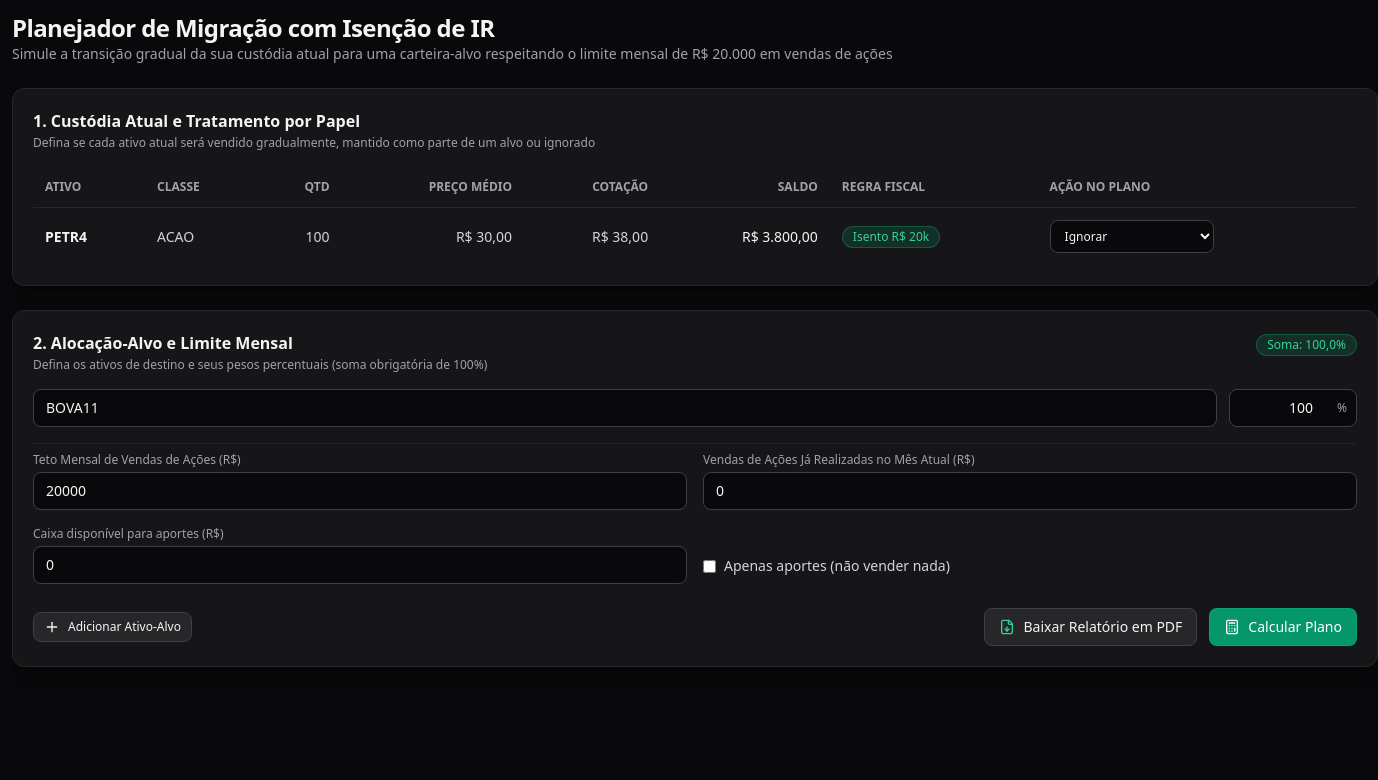
Test: Avisos do plano e plano desatualizado › mudar as entradas depois de calcular remove o plano exibido
Click the button "Calcular Plano".
click(1283, 627)  # box [1209,608,1357,646]
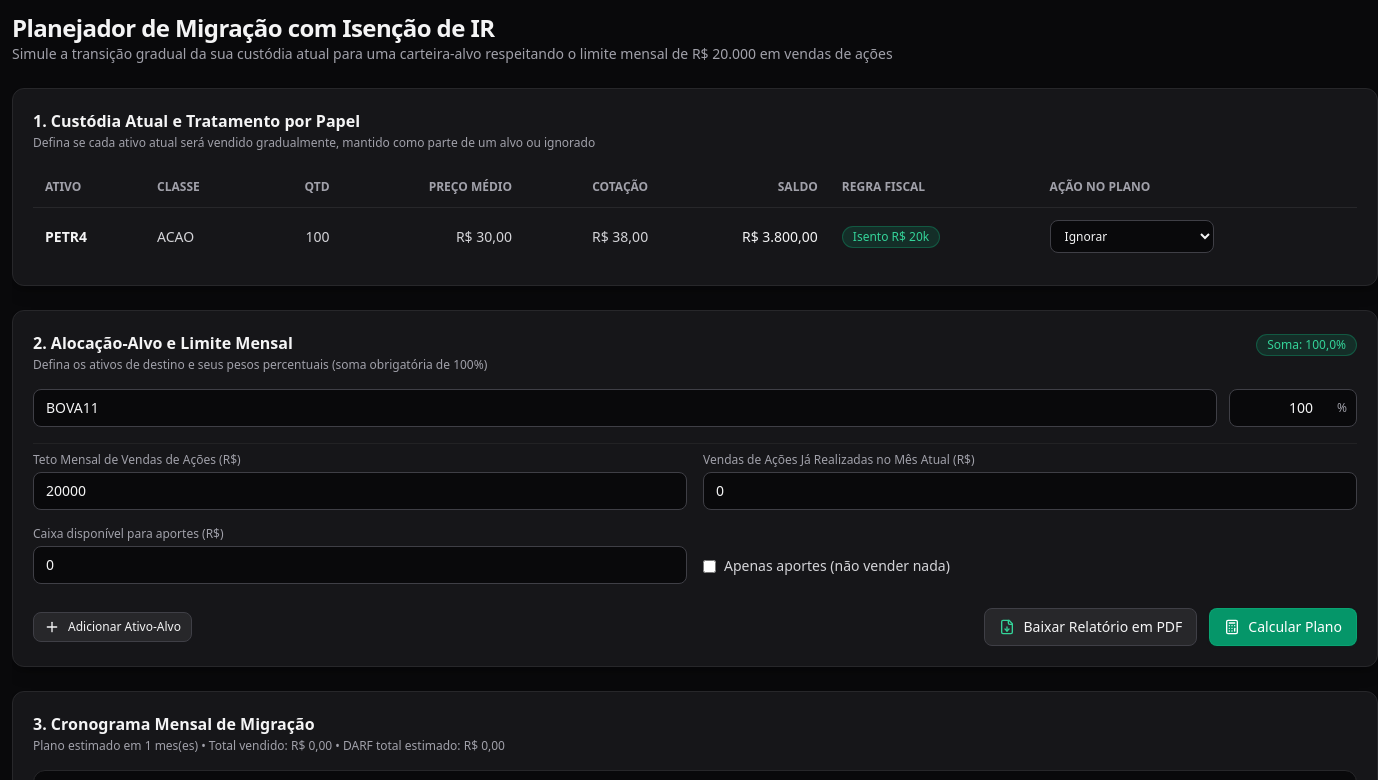
Now the heading "3. Cronograma Mensal de Migração" is shown, box [33,713,315,735]
Replace the text in the number field labelled "Teto Mensal de Vendas de Ações (R$)" with "15000" at (360, 491), box [33,472,687,510]
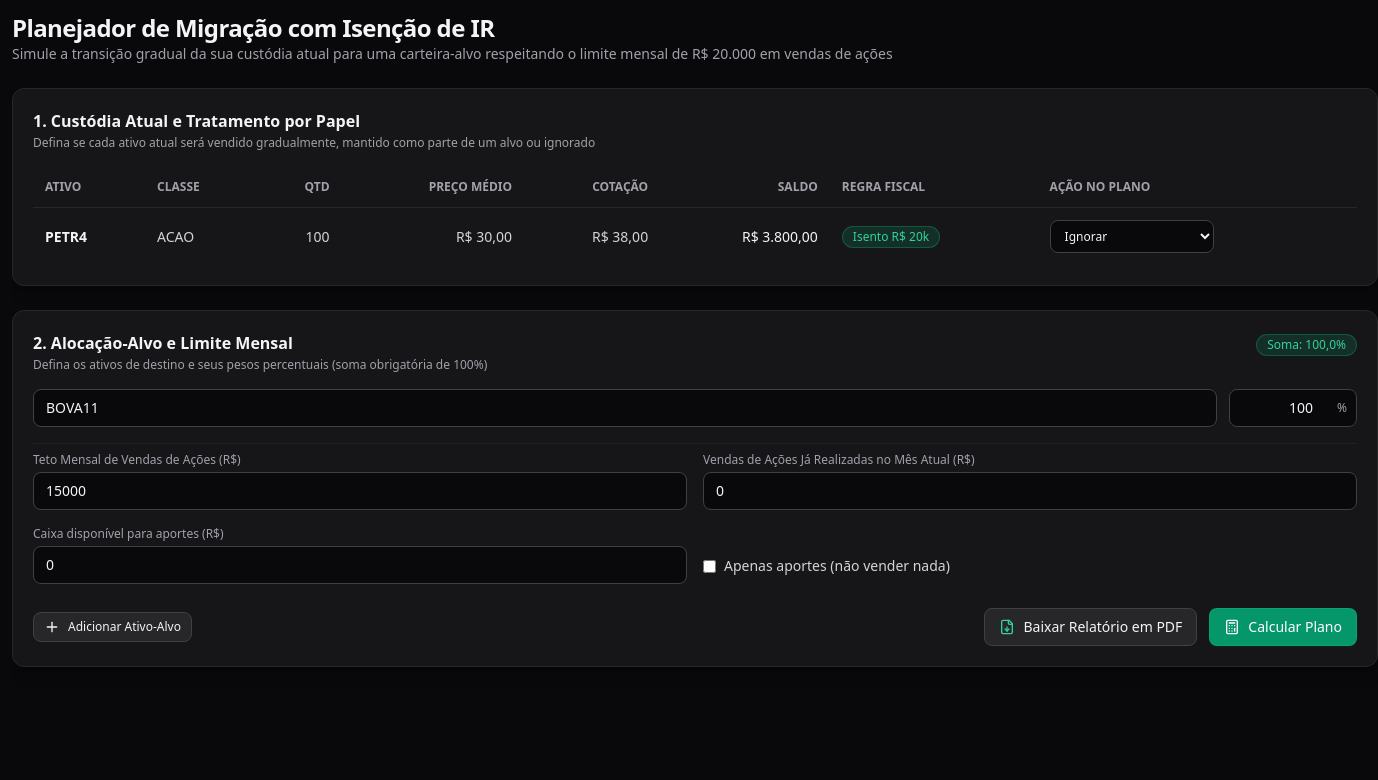
Now the heading "Cronograma Mensal de Migração" is gone
